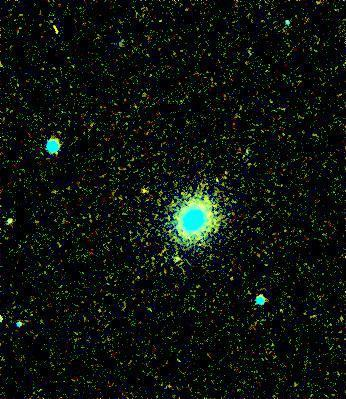star: (129, 175, 159, 205)
